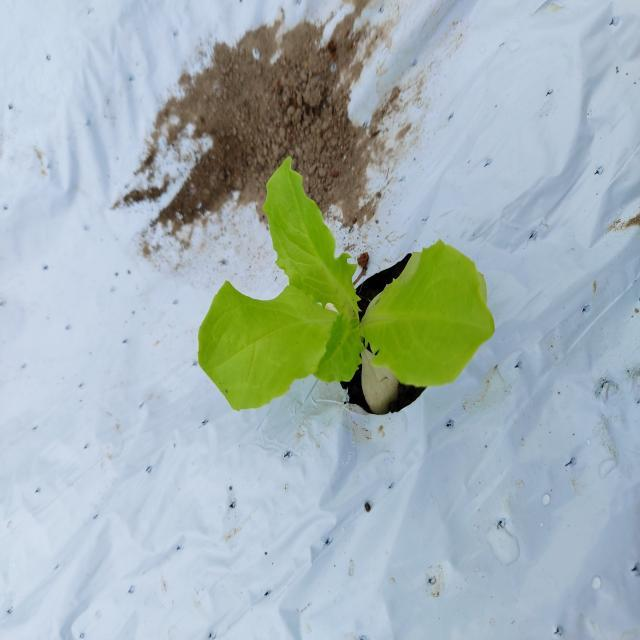Lettuce-Not-Ready-to-Harvest: (189, 156, 497, 391)
